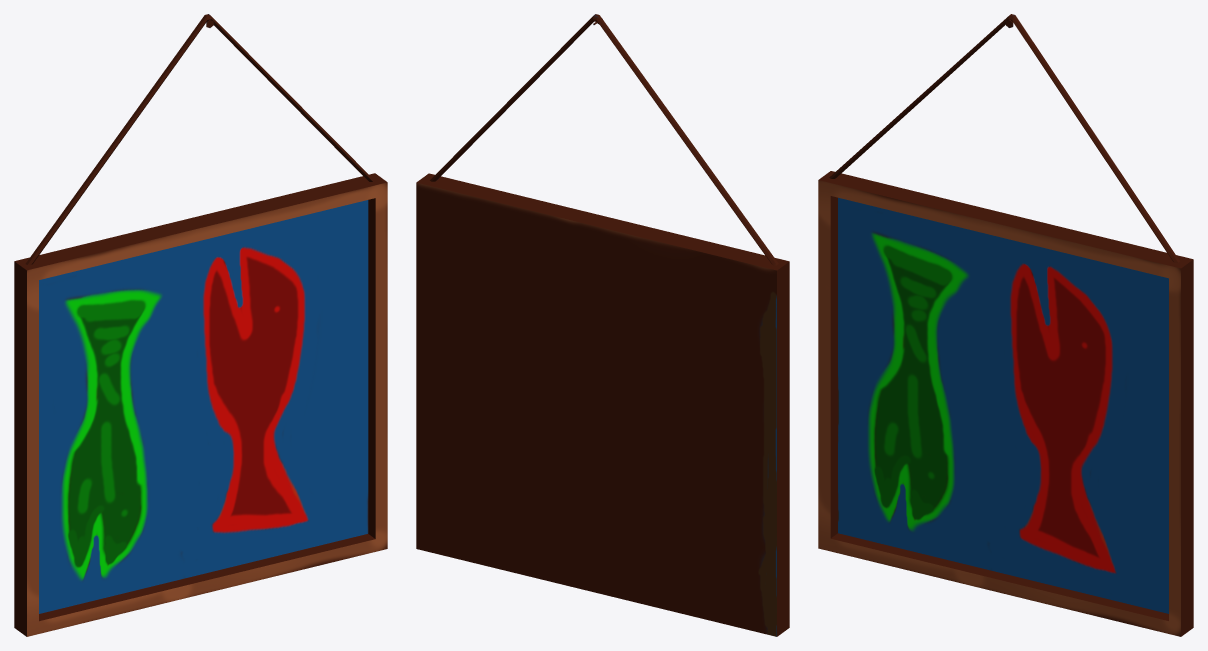
File: painting.fbx
3 views of the same model, side by side, from view 1: azimuth 30°, elevation 25°; view 2: azimuth 150°, elevation 25°; view 3: azimuth 330°, elevation 25° (orthographic).
Visible parts, largest first — view 1: Painting; view 2: Painting; view 3: Painting.
Boxes of the visible parts, <box> form: Painting: <box>14,14,387,636</box>; Painting: <box>416,14,789,636</box>; Painting: <box>818,14,1193,636</box>.
Bounding box in the file's own units: 22.6 × 34.21 × 1.37.
